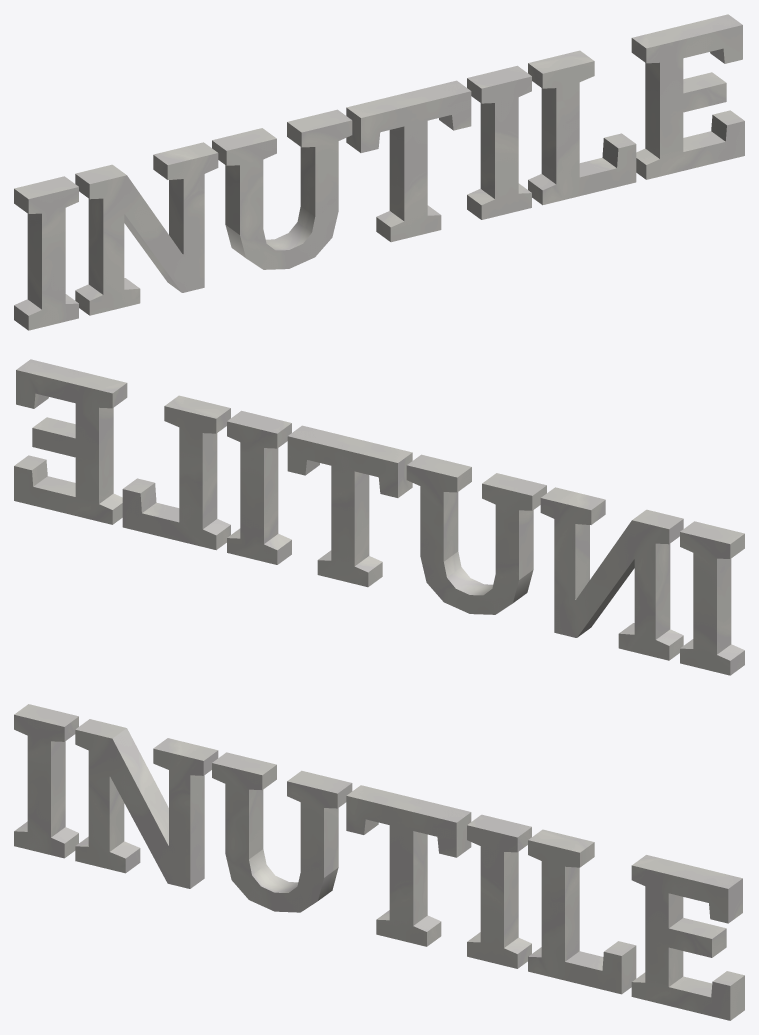
The model's file is inutile.glb.
3 views of the same model, one above another, from view 1: azimuth 30°, elevation 25°; view 2: azimuth 150°, elevation 25°; view 3: azimuth 330°, elevation 25° (orthographic).
Parts seen in each view (by area): view 1: Inutile; view 2: Inutile; view 3: Inutile.
Boxes of the visible parts, bbox=[...] form: Inutile: bbox=[14, 14, 744, 330]; Inutile: bbox=[14, 359, 744, 675]; Inutile: bbox=[14, 704, 744, 1020].
Size of the model in its own units: 5.68 by 1.01 by 0.2.
1 material, 1 textured.
